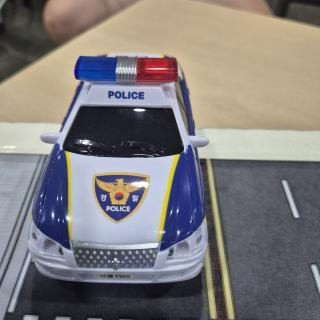Police_car: (28, 56, 208, 283)
